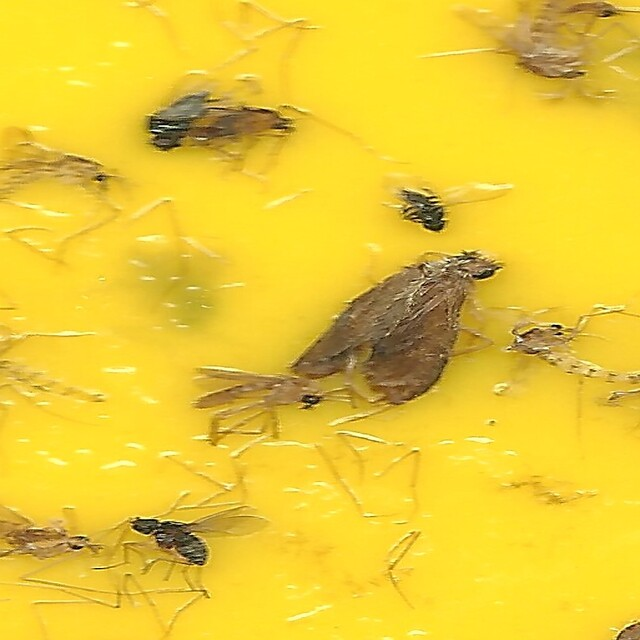Brachycera: (125, 506, 268, 571), (385, 179, 515, 235), (143, 69, 222, 155)
Trichoptera: (287, 249, 497, 409)
